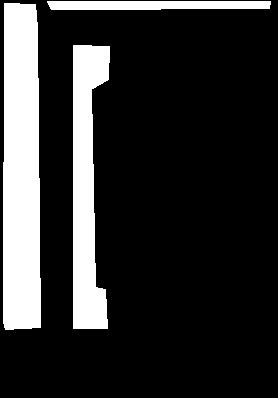parkingspot: (3, 3, 40, 329), (73, 45, 109, 328), (47, 1, 270, 9)
